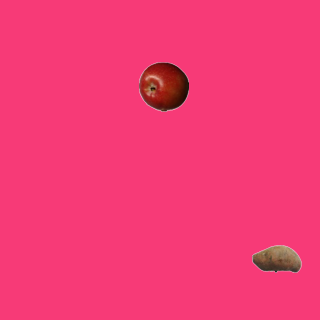Apple Braeburn: (138, 61, 188, 111)
Potato Sweet: (251, 233, 301, 283)
